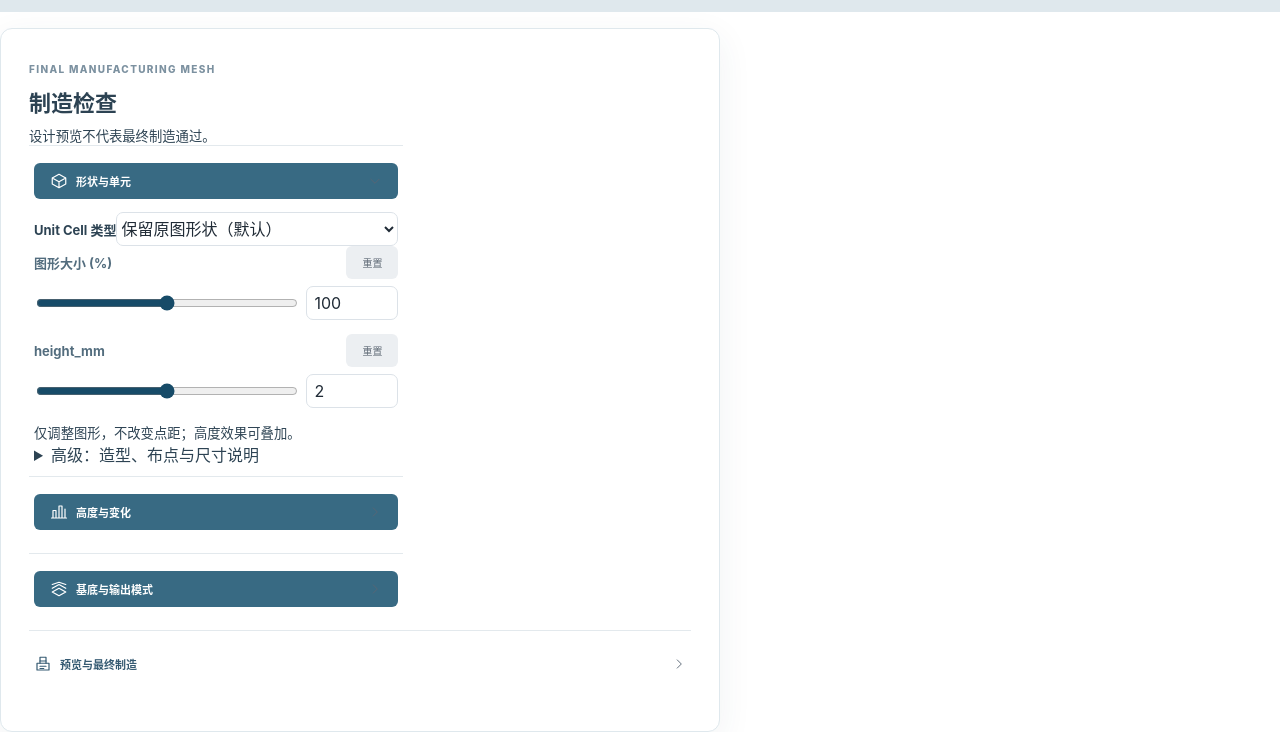
output classification and element inspector states › moves only technical result details into the shared diagnostics while keeping stale, dimensions and warnings visible
What coordinates should you click on to do the following:
click the button "预览与最终制造"
I would click on:
 (98, 665)
Its box is [34, 648, 686, 680].
(page scrolled)
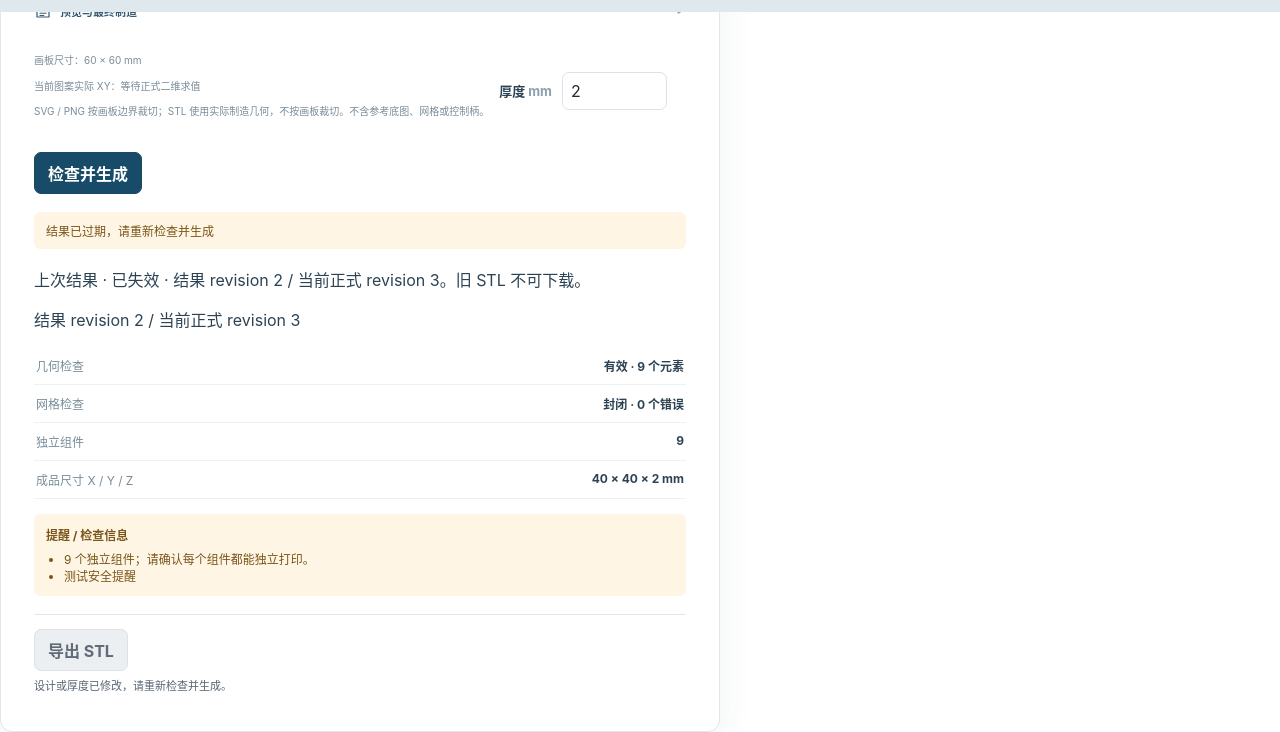
Now the text "上次结果 · 已失效 · 结果 revision 2 / 当前正式 revision 3。旧 STL 不可下载。" is shown, box [34, 266, 686, 290]
Now the text "40 × 40 × 2 mm" is shown, box [592, 470, 684, 488]
Now the list item "测试安全提醒" is shown, box [64, 568, 136, 584]
